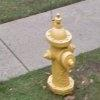a fire hydrant: (44, 15, 74, 94)
